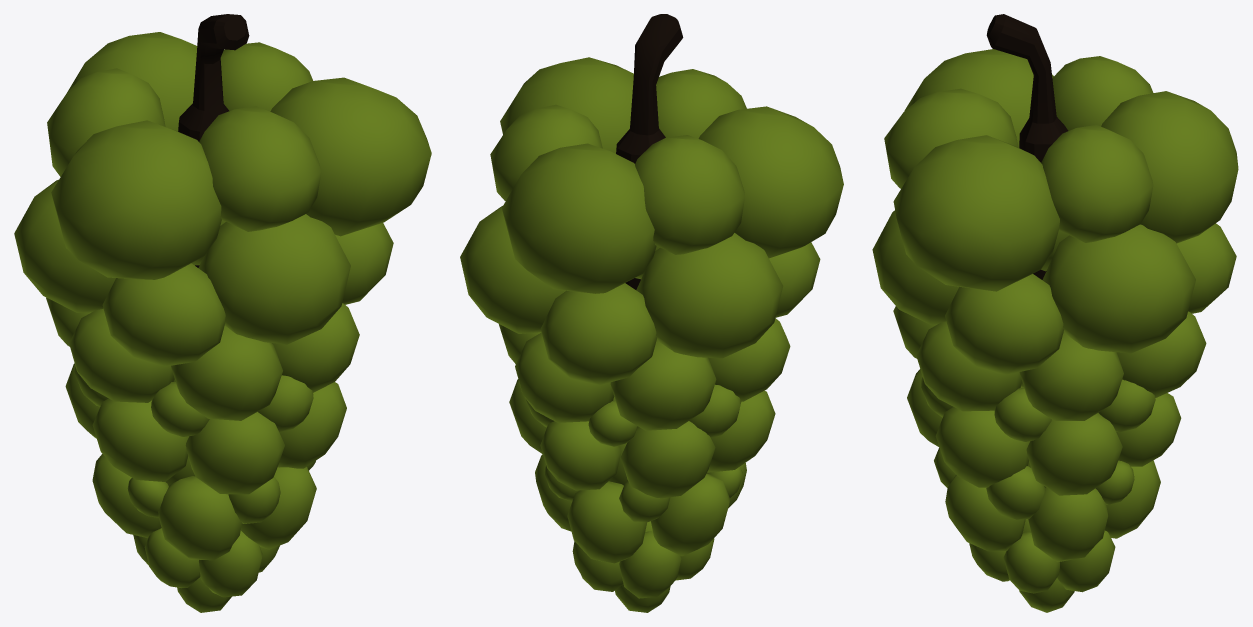
Rendered from Grape_2.FBX.
3 views of the same model, side by side, from view 1: azimuth 30°, elevation 25°; view 2: azimuth 150°, elevation 25°; view 3: azimuth 270°, elevation 25° (orthographic). The views are drawn at different scales.
Parts seen in each view (by area): view 1: Grape_2; view 2: Grape_2; view 3: Grape_2.
Part boxes in pixels (left/top/right/bottom): Grape_2: left=14, top=14, right=431, bottom=612; Grape_2: left=460, top=14, right=843, bottom=612; Grape_2: left=872, top=14, right=1238, bottom=612.
Bounding box in the file's own units: 762 × 716 × 1280.
